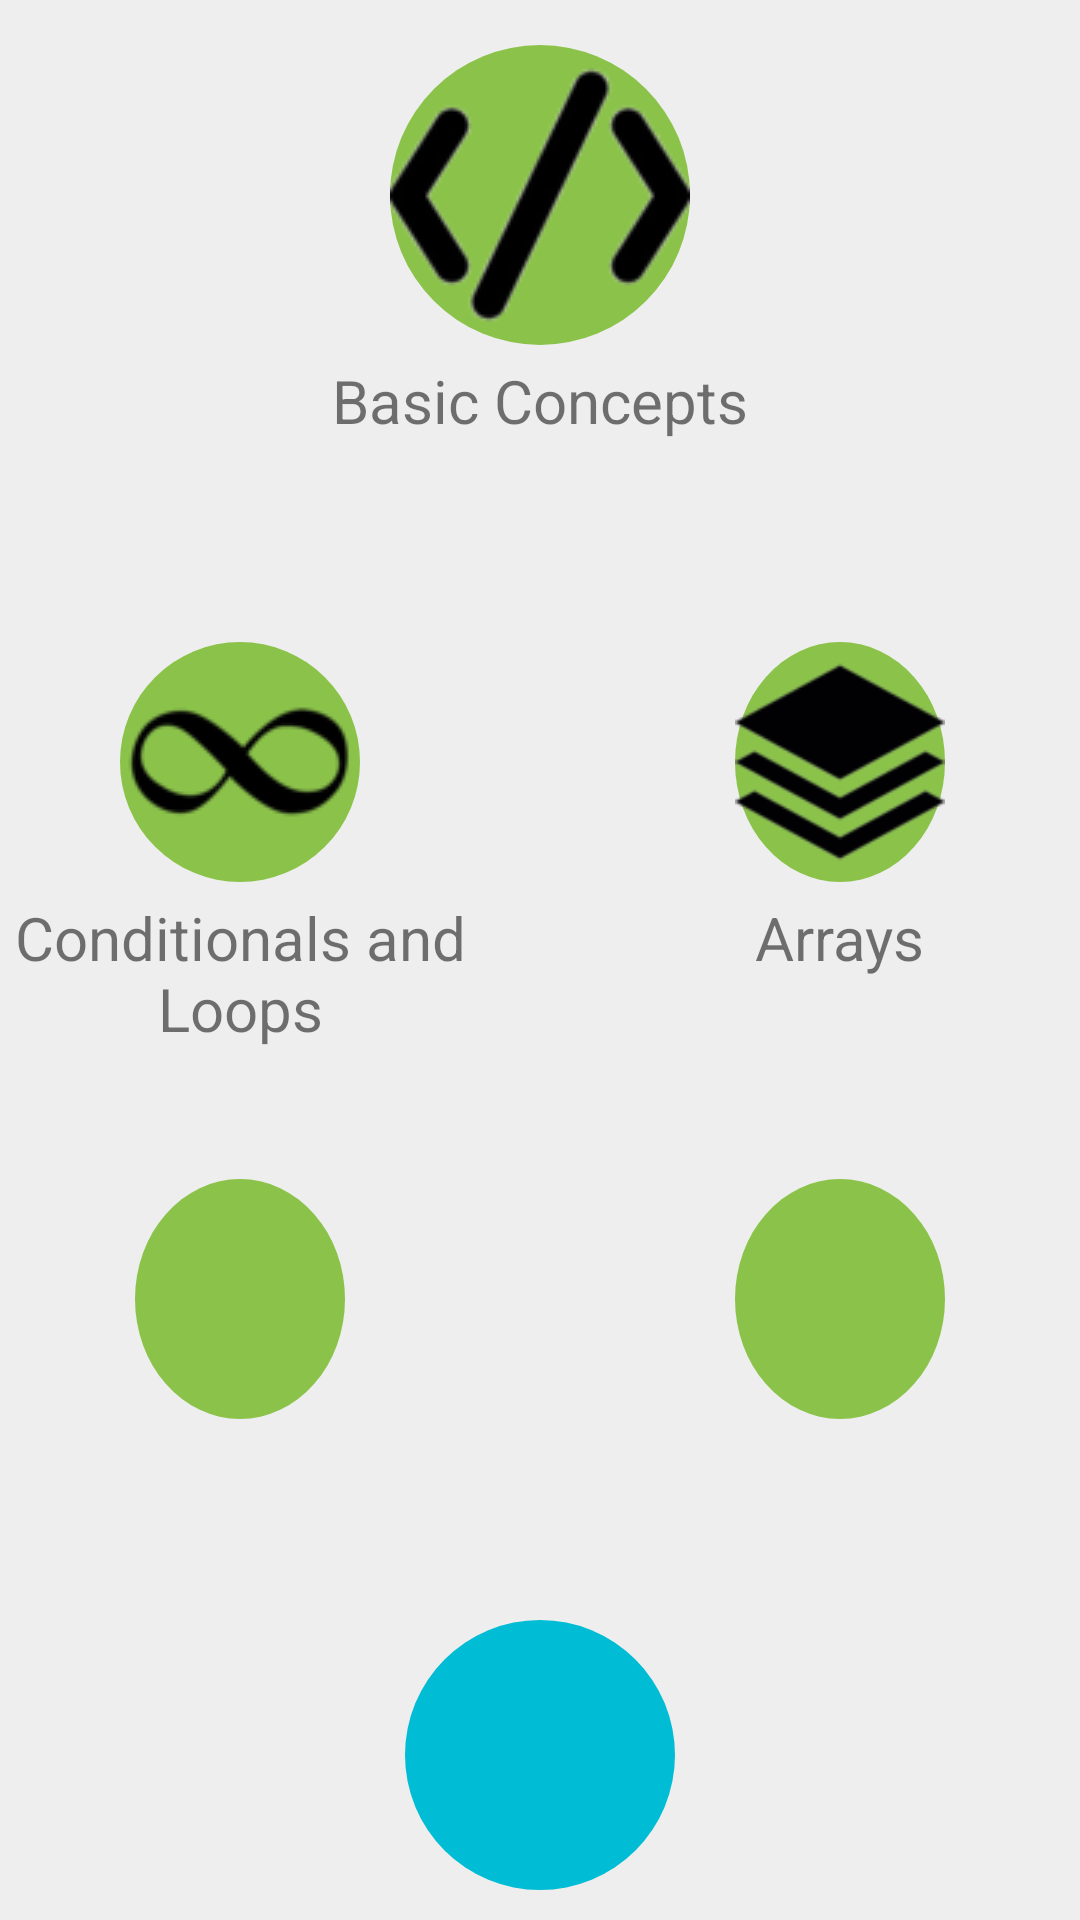

Icons on this 1080x1920 Android screen, each with the point to tap as [x,y]:
coding: [540,195]
